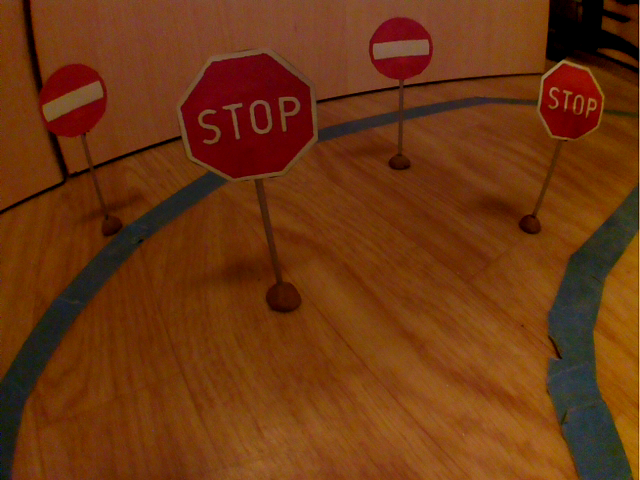Stop: (169, 44, 327, 188), (530, 57, 608, 147)
Zakaz: (33, 61, 112, 141), (367, 14, 437, 83)
